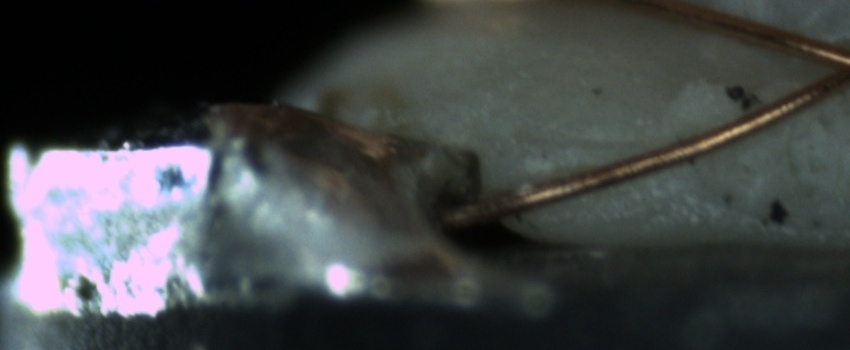CL: (799, 31, 849, 97)
DL: (525, 112, 664, 173)
